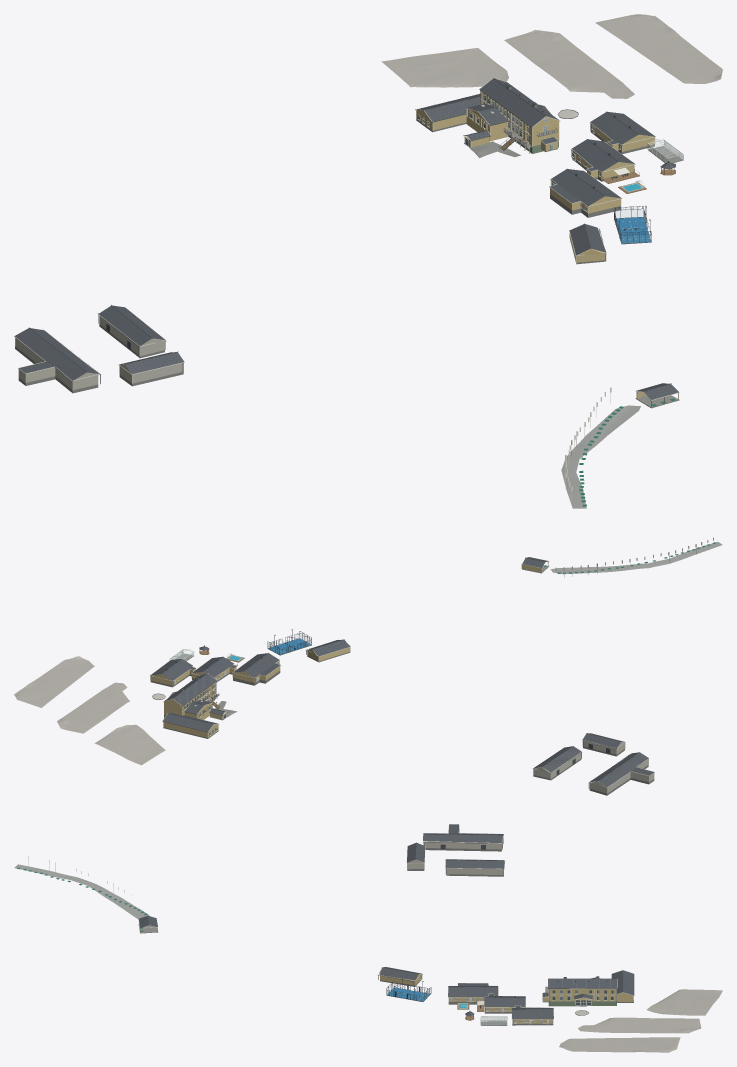
File: facilities-v1.glb
3 views of the same model, one above another, from view 1: azimuth 30°, elevation 25°; view 2: azimuth 150°, elevation 25°; view 3: azimuth 270°, elevation 25° (orthographic). The views are drawn at different scales.
Parts seen in each view (by area): view 1: VECK_FACILITY_R01, VECK_FACILITY_S06_material_17_ground, VECK_FACILITY_S05_material_17_ground, VECK_FACILITY_S04_material_17_ground, VECK_FACILITY_R10, VECK_FACILITY_R05, VECK_FACILITY_R11, VECK_FACILITY_R04, VECK_FACILITY_S08_material_16_ground, VECK_FACILITY_R03, VECK_FACILITY_R12, VECK_FACILITY_S03 (+2 smaller); view 2: VECK_FACILITY_R01, VECK_FACILITY_S06_material_17_ground, VECK_FACILITY_S05_material_17_ground, VECK_FACILITY_S04_material_17_ground, VECK_FACILITY_R10, VECK_FACILITY_R05, VECK_FACILITY_S08_material_16_ground, VECK_FACILITY_R11, VECK_FACILITY_R03, VECK_FACILITY_R12, VECK_FACILITY_R04, VECK_FACILITY_R08 (+1 smaller); view 3: VECK_FACILITY_R01, VECK_FACILITY_S05_material_17_ground, VECK_FACILITY_S06_material_17_ground, VECK_FACILITY_R10, VECK_FACILITY_S04_material_17_ground, VECK_FACILITY_R11, VECK_FACILITY_S08_material_16_ground, VECK_FACILITY_R05, VECK_FACILITY_R03, VECK_FACILITY_R04, VECK_FACILITY_R08, VECK_FACILITY_S03 (+1 smaller).
Boxes of the visible parts, box(x1,y1,x2,y2) form: VECK_FACILITY_R01: box(415, 78, 560, 153); VECK_FACILITY_S06_material_17_ground: box(595, 14, 722, 83); VECK_FACILITY_S05_material_17_ground: box(504, 30, 634, 98); VECK_FACILITY_S04_material_17_ground: box(381, 48, 508, 87); VECK_FACILITY_R10: box(14, 327, 100, 393); VECK_FACILITY_R05: box(549, 169, 622, 217); VECK_FACILITY_R11: box(97, 305, 166, 358); VECK_FACILITY_R04: box(571, 139, 639, 183); VECK_FACILITY_S08_material_16_ground: box(561, 405, 640, 508); VECK_FACILITY_R03: box(589, 111, 655, 154); VECK_FACILITY_R12: box(118, 351, 184, 386); VECK_FACILITY_S03: box(614, 205, 651, 244); VECK_FACILITY_R01: box(162, 673, 219, 738); VECK_FACILITY_S06_material_17_ground: box(14, 656, 94, 707); VECK_FACILITY_S05_material_17_ground: box(57, 682, 129, 733); VECK_FACILITY_S04_material_17_ground: box(94, 724, 165, 765); VECK_FACILITY_R10: box(588, 752, 654, 795); VECK_FACILITY_R05: box(232, 653, 280, 685); VECK_FACILITY_S08_material_16_ground: box(550, 542, 722, 574); VECK_FACILITY_R11: box(532, 746, 581, 780); VECK_FACILITY_R03: box(150, 658, 196, 687); VECK_FACILITY_R12: box(582, 733, 625, 756); VECK_FACILITY_R04: box(191, 656, 237, 682); VECK_FACILITY_R08: box(306, 639, 350, 662); VECK_FACILITY_R01: box(542, 970, 634, 1006); VECK_FACILITY_S05_material_17_ground: box(578, 1017, 701, 1033); VECK_FACILITY_S06_material_17_ground: box(559, 1037, 680, 1052); VECK_FACILITY_R10: box(423, 824, 503, 851); VECK_FACILITY_S04_material_17_ground: box(647, 989, 722, 1015); VECK_FACILITY_R11: box(445, 859, 504, 876); VECK_FACILITY_S08_material_16_ground: box(14, 864, 148, 918); VECK_FACILITY_R05: box(448, 983, 498, 1004); VECK_FACILITY_R03: box(511, 1005, 553, 1025); VECK_FACILITY_R04: box(476, 993, 525, 1013); VECK_FACILITY_R08: box(378, 967, 422, 986); VECK_FACILITY_S03: box(386, 977, 431, 1001).
Bounding box in the file's own units: 308 × 28.4 × 359.
